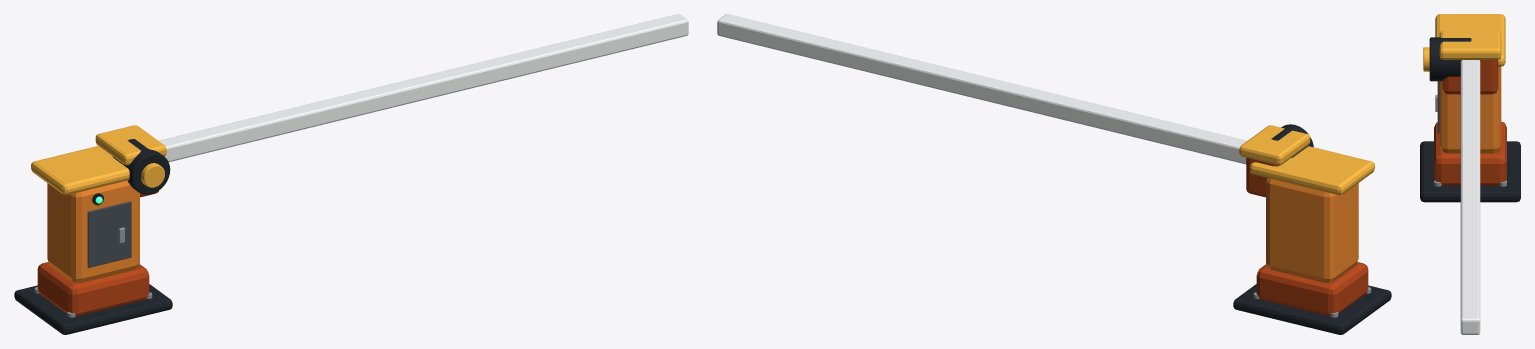
Rendered from RoadBarrierLeft.glb.
3 renders of one model, left to right at view 1: azimuth 30°, elevation 25°; view 2: azimuth 150°, elevation 25°; view 3: azimuth 270°, elevation 25°, orthographic.
Parts seen in each view (by area): view 1: BarrierArm, ControlHousing, ControlBase, ControlCap, FoundationPlate, ServiceDoor, PivotSupportTop, HingeDisc; view 2: BarrierArm, ControlHousing, ControlBase, ControlCap, FoundationPlate, PivotSupportTop, PivotSupport; view 3: BarrierArm, ControlHousing, FoundationPlate, ControlBase, PivotSupportTop, ControlCap, HingeDisc, PivotSupport, HingeHub, ServiceDoor.
Part boxes in pixels (x1,y1,x2,y2): BarrierArm: (158,14,688,161); ControlHousing: (47,180,139,282); ControlBase: (37,262,149,316); ControlCap: (31,146,129,194); FoundationPlate: (14,284,172,334); ServiceDoor: (87,201,131,267); PivotSupportTop: (95,125,166,165); HingeDisc: (113,139,170,194); BarrierArm: (717,14,1247,164); ControlHousing: (1266,178,1358,282); ControlBase: (1256,262,1368,316); ControlCap: (1250,146,1374,194); FoundationPlate: (1233,284,1391,334); PivotSupportTop: (1239,125,1310,165); PivotSupport: (1246,157,1280,197); BarrierArm: (1460,60,1480,334); ControlHousing: (1439,67,1501,153); FoundationPlate: (1420,141,1520,202); ControlBase: (1434,121,1506,185); PivotSupportTop: (1439,31,1501,59); ControlCap: (1435,14,1505,66); HingeDisc: (1429,37,1471,81); PivotSupport: (1442,60,1498,94); HingeHub: (1423,47,1429,71); ServiceDoor: (1437,81,1439,133).
Size of the model in its own units: 4.55 by 1.06 by 0.62.
